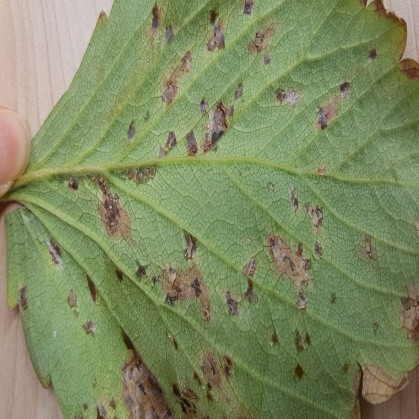Angular_LS: (3, 0, 418, 418)
